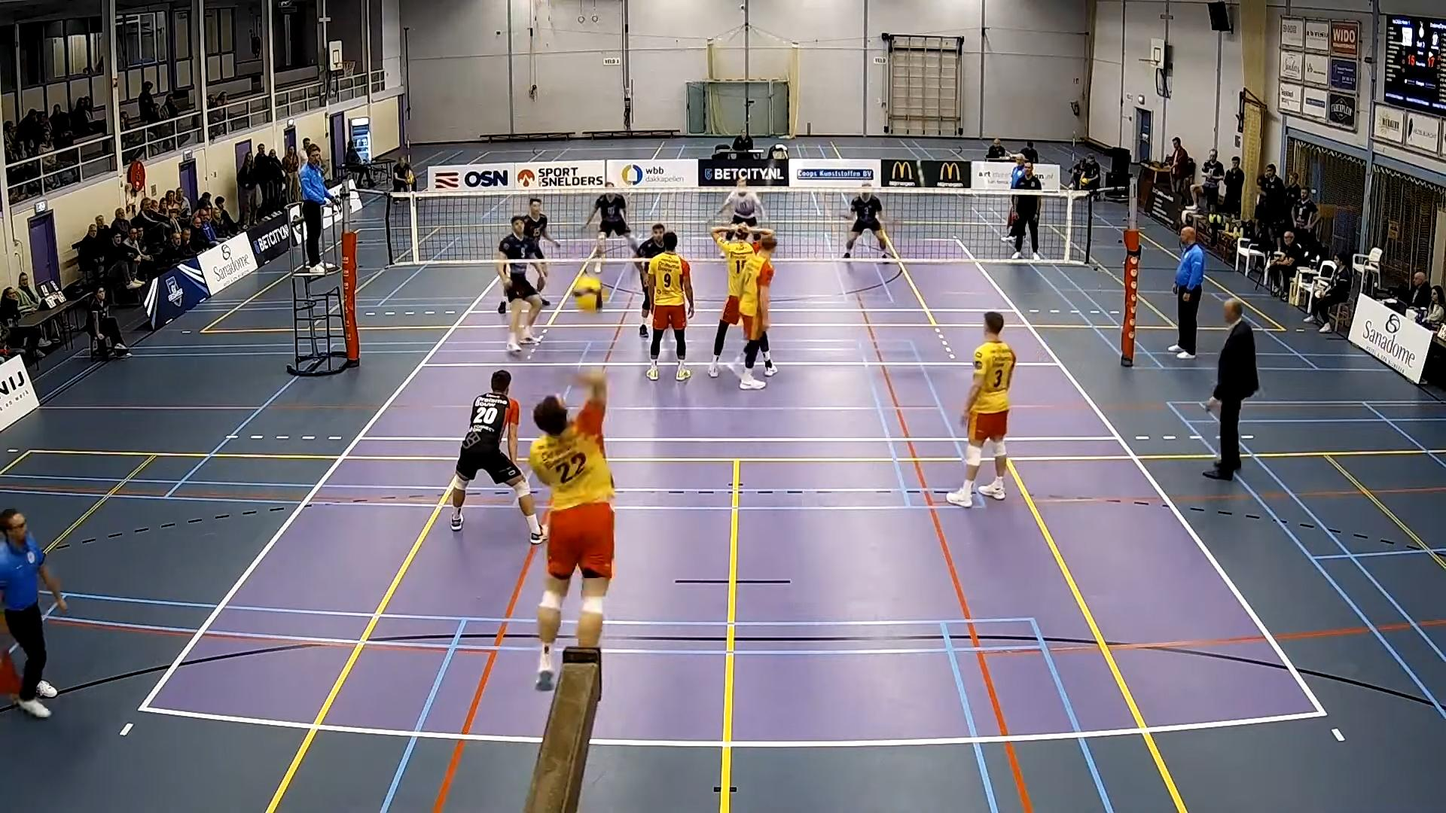battuta: (506, 361, 627, 654)
